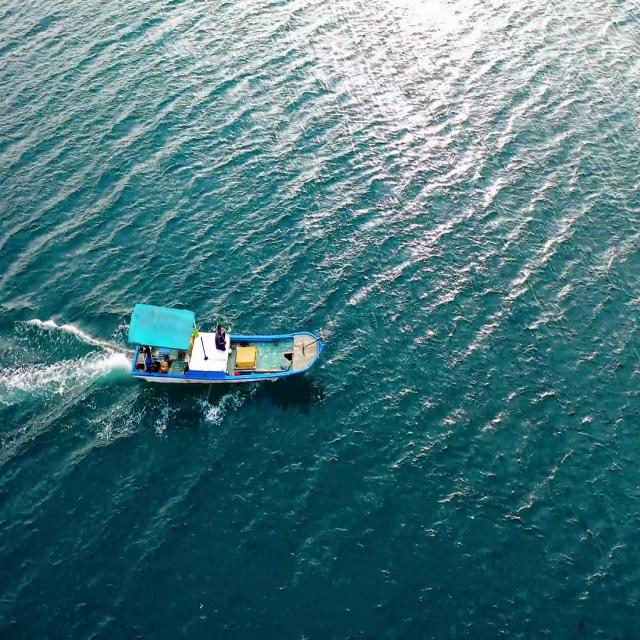ship: (115, 288, 339, 408)
